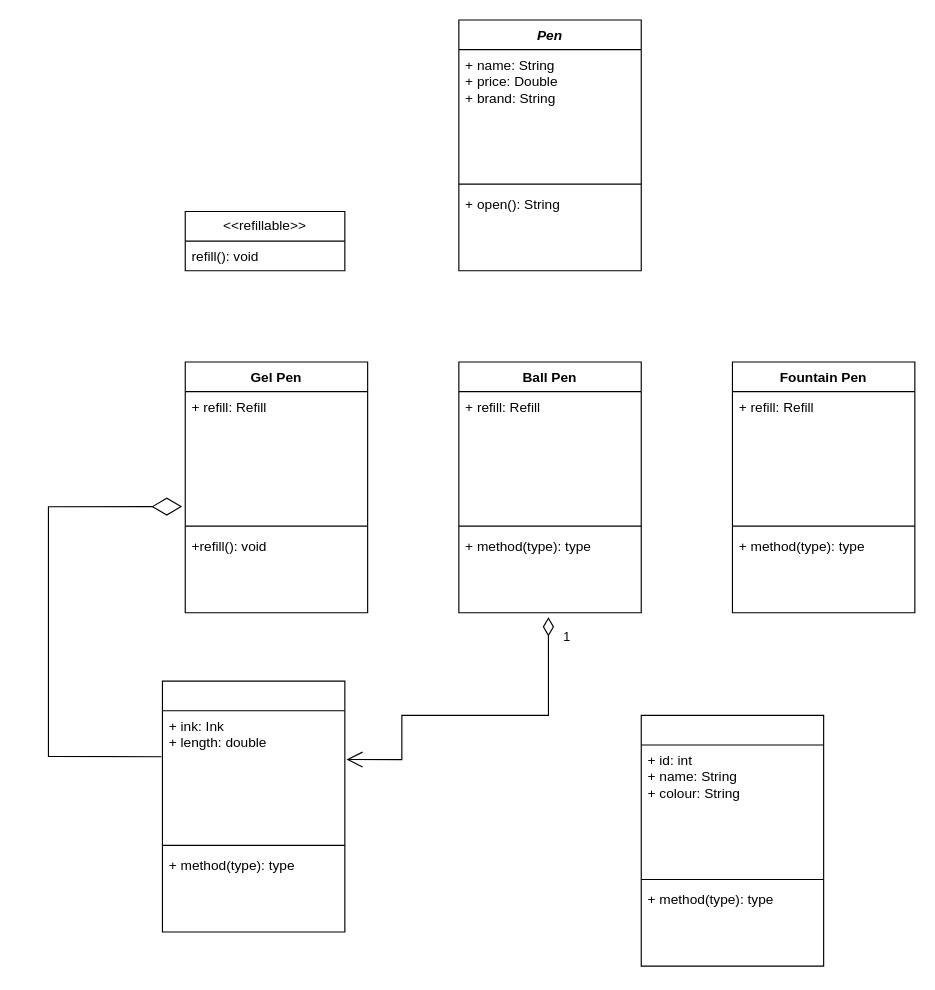
Some shapes in this 935 by 990 pixel diagram are drawn without their labels. The box of each missing label's shape, as (x1, y1, x2, y2) in pixels:
Ink: (640, 714, 824, 966)
Refill: (161, 680, 345, 932)
